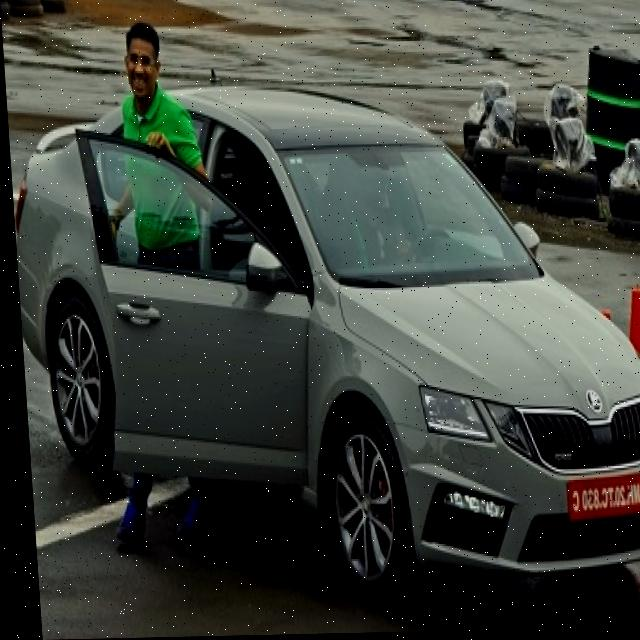plate: (559, 473, 640, 524)
